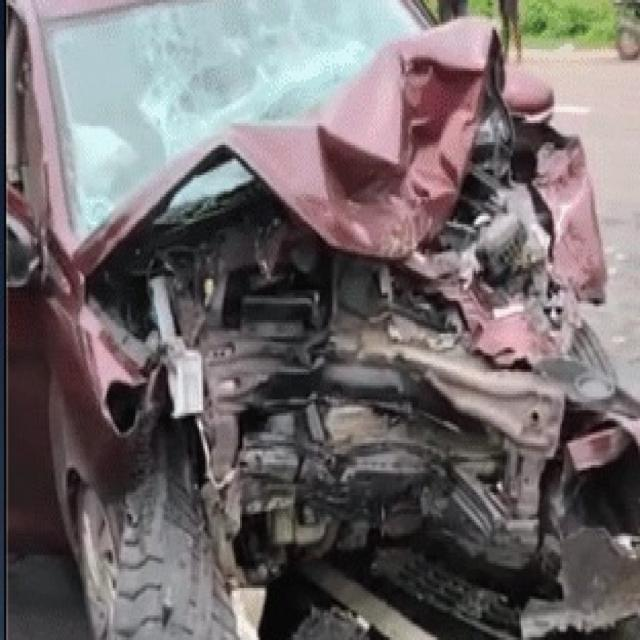accident: (8, 0, 640, 638)
